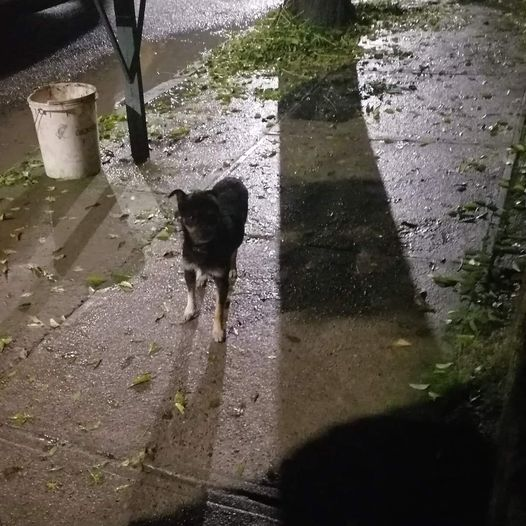dog: (154, 169, 264, 352)
